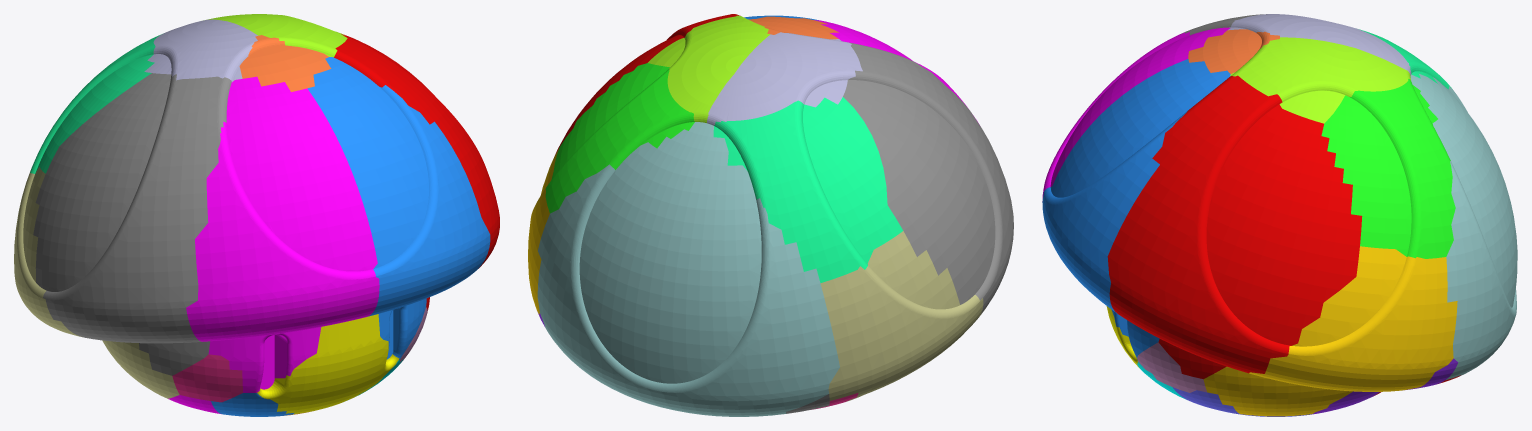
File: 27(data_1.000000,_smooth_0.100000,_label_0.000000).obj
3 views of the same model, side by side, from view 1: azimuth 30°, elevation 25°; view 2: azimuth 150°, elevation 25°; view 3: azimuth 270°, elevation 25° (orthographic).
Size of the model in its own units: 300 by 230 by 291.
